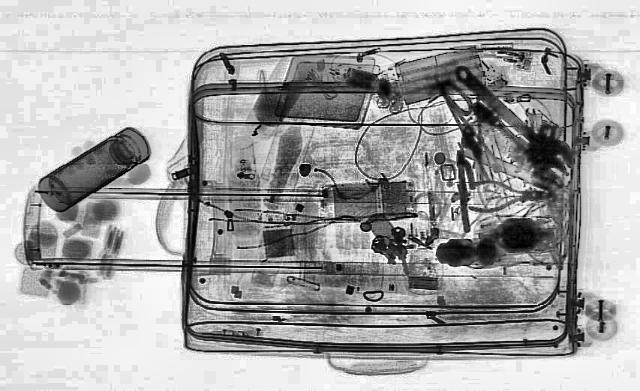Pliers: (466, 179, 550, 213)
Wrench: (430, 58, 592, 182)
